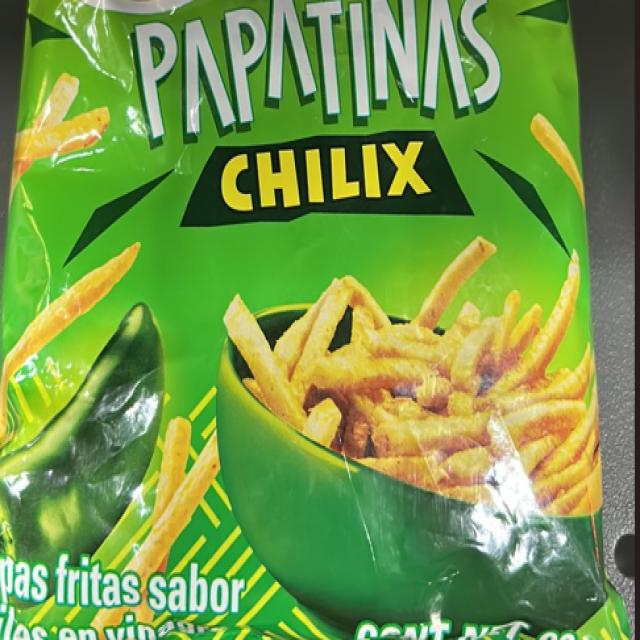chipsPapatinas: (25, 5, 579, 640)
